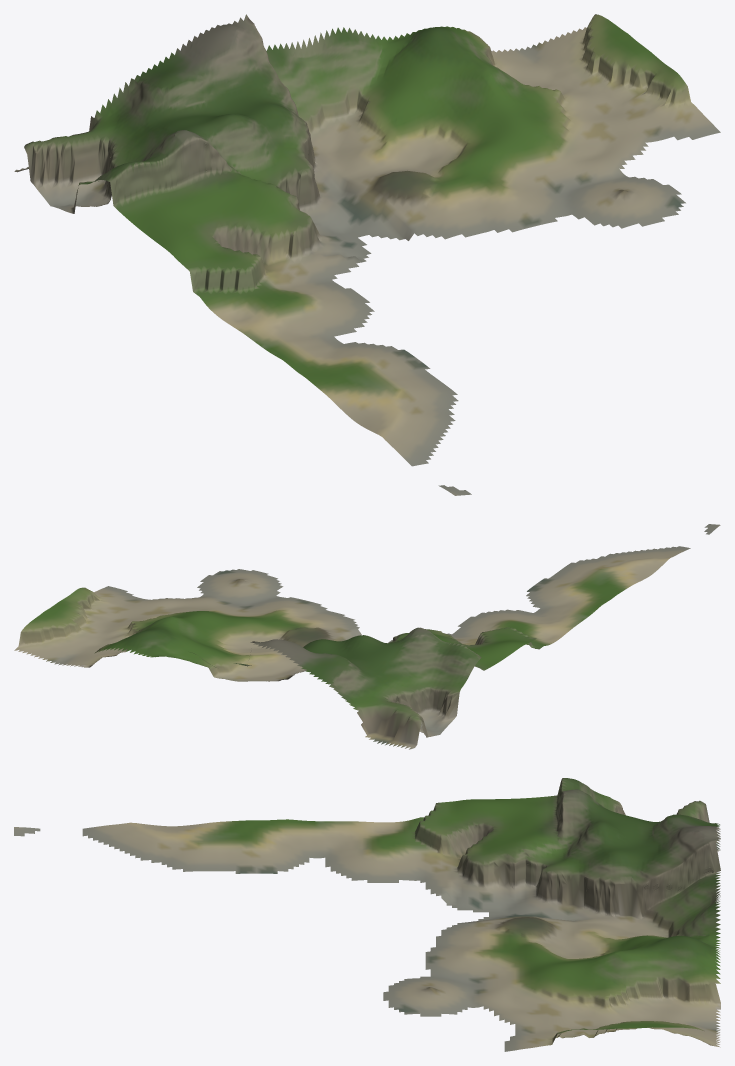
Rendered from coast_tile_x1z2.glb.
3 views of the same model, one above another, from view 1: azimuth 30°, elevation 25°; view 2: azimuth 150°, elevation 25°; view 3: azimuth 270°, elevation 25° (orthographic). The views are drawn at different scales.
Visible parts, largest first — view 1: coast_tile_x1z2; view 2: coast_tile_x1z2; view 3: coast_tile_x1z2.
Part boxes in pixels (box(x1,y1,x2,y2)): coast_tile_x1z2: box(14, 14, 720, 495); coast_tile_x1z2: box(14, 524, 720, 749); coast_tile_x1z2: box(14, 778, 720, 1051).
Size of the model in its own units: 600 by 108 by 804.
